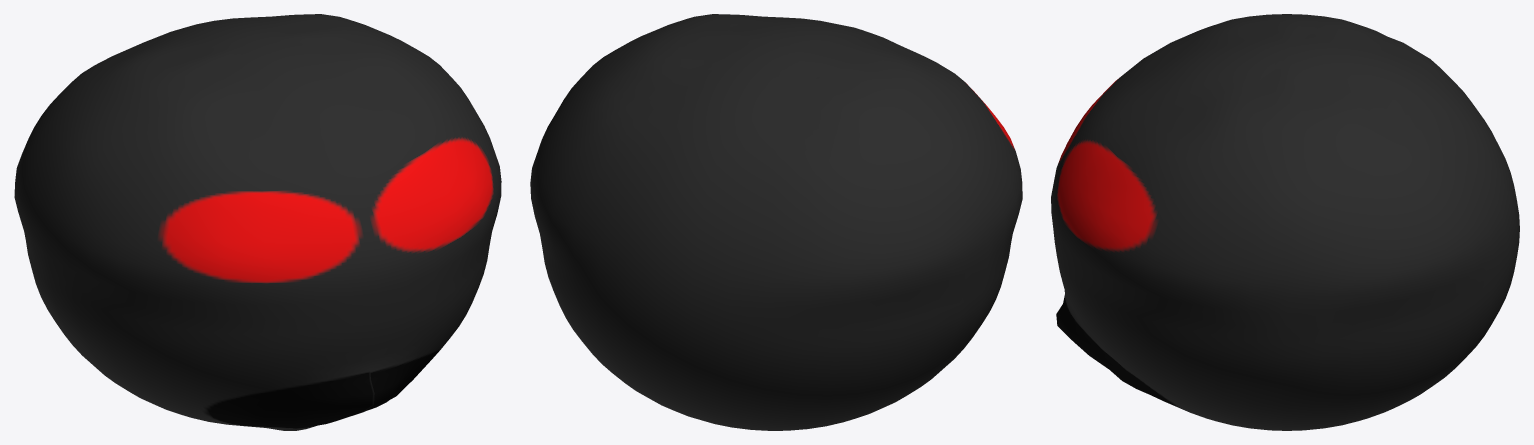
The model's file is baby head.fbx.
3 renders of one model, left to right at view 1: azimuth 30°, elevation 25°; view 2: azimuth 150°, elevation 25°; view 3: azimuth 270°, elevation 25°, orthographic. The views are drawn at different scales.
Visible parts, largest first — view 1: pSphere10; view 2: pSphere10; view 3: pSphere10.
Boxes of the visible parts, bbox=[...] form: pSphere10: bbox=[14, 14, 501, 430]; pSphere10: bbox=[530, 14, 1022, 430]; pSphere10: bbox=[1051, 14, 1519, 430].
Bounding box in the file's own units: 3.82 × 3.13 × 3.73.
Materials: 1 (1 with a texture image).
